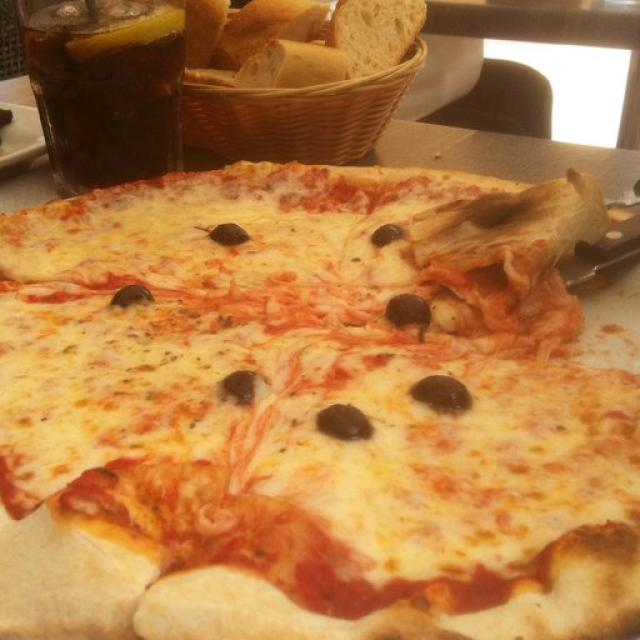Olives: (408, 372, 467, 416), (317, 404, 367, 438), (224, 370, 271, 406), (385, 293, 429, 326), (113, 285, 151, 308), (213, 222, 247, 246), (375, 222, 399, 245)
Pizza: (0, 164, 640, 640)
